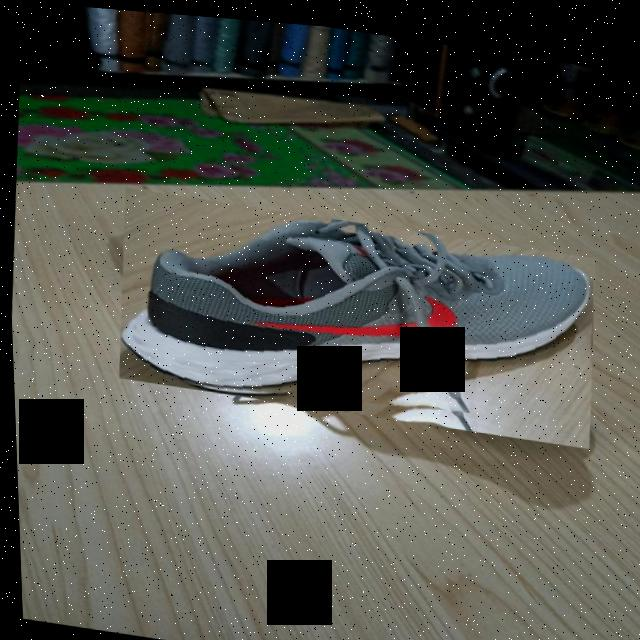shoe: (110, 185, 599, 440)
